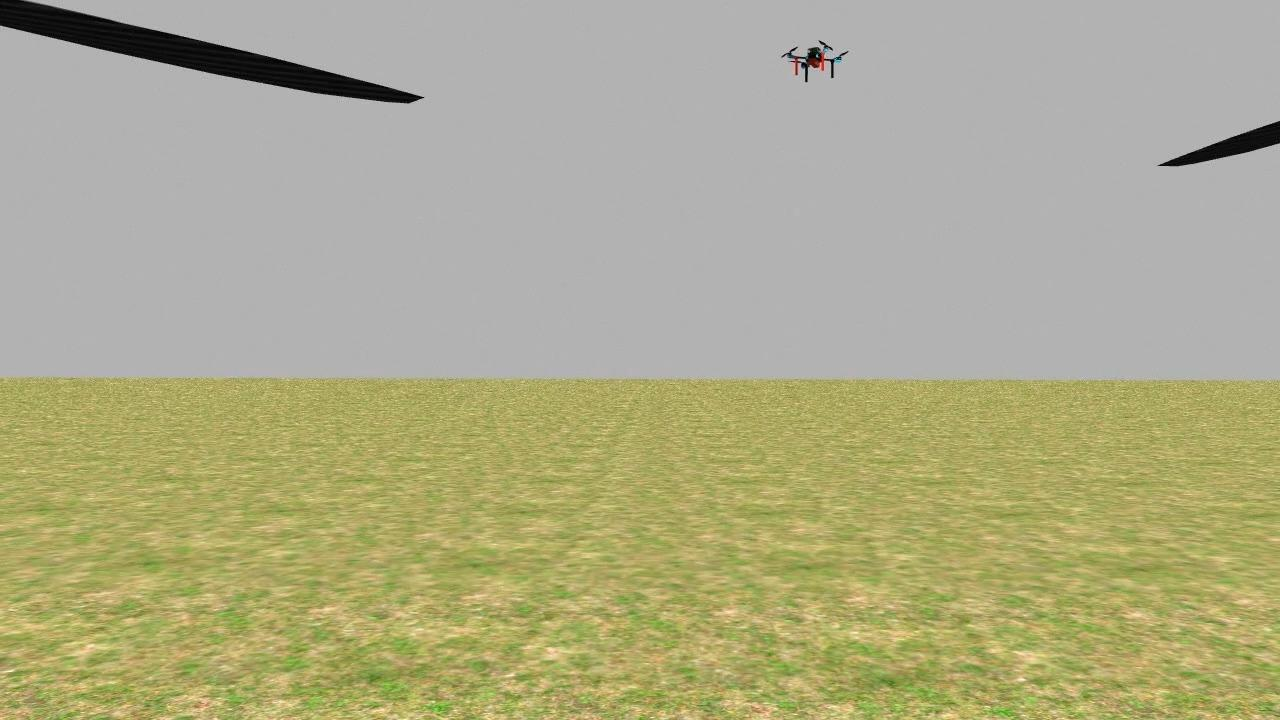UAV: (776, 33, 852, 92)
